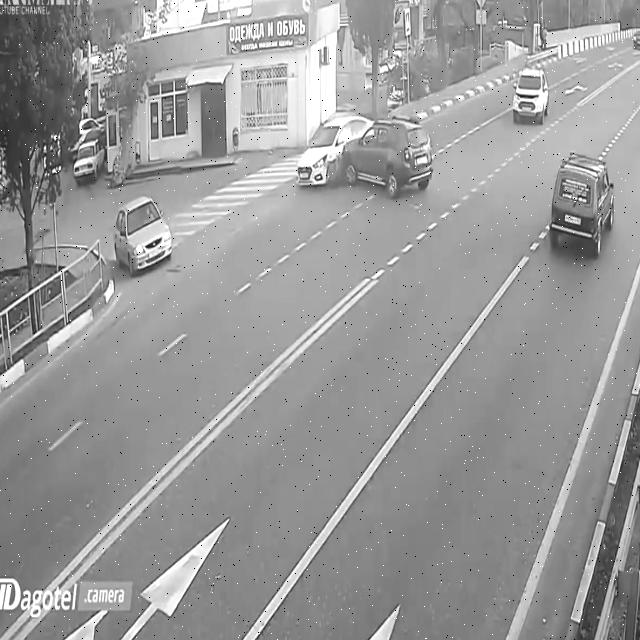accident: (291, 94, 439, 201)
